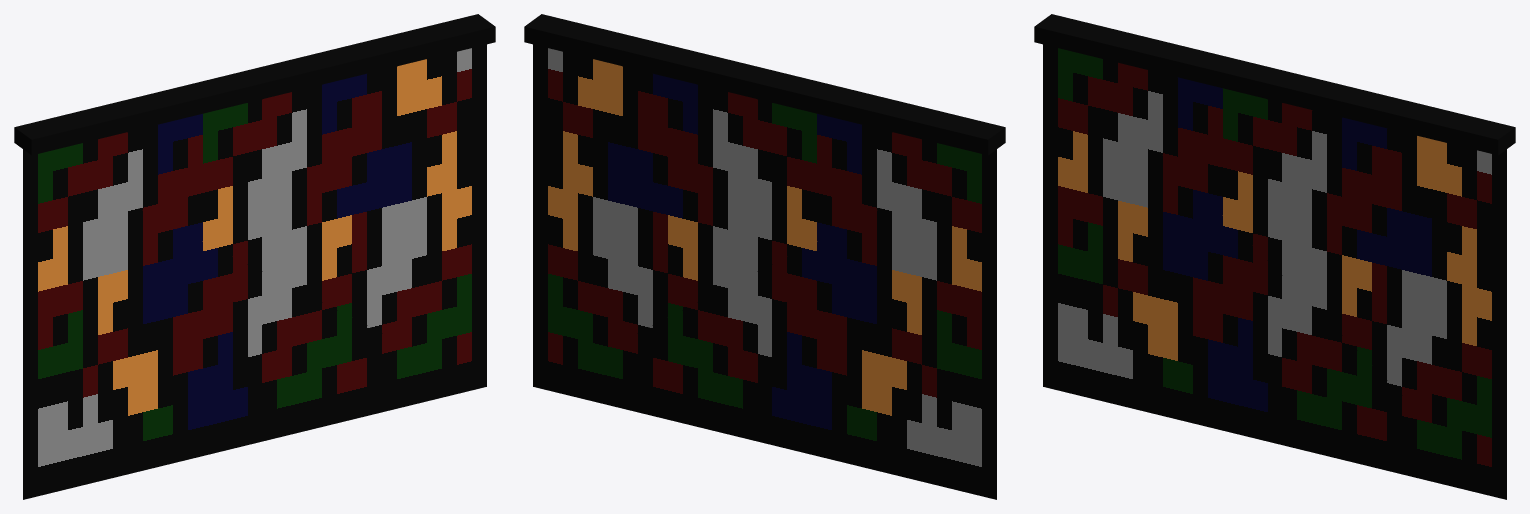
File: window_438x04.obj
3 views of the same model, side by side, from view 1: azimuth 30°, elevation 25°; view 2: azimuth 150°, elevation 25°; view 3: azimuth 330°, elevation 25° (orthographic).
Parts seen in each view (by area): view 1: Plane.001; view 2: Plane.001; view 3: Plane.001.
Boxes of the visible parts, x1=… form: Plane.001: x1=14, y1=14, x2=495, y2=499; Plane.001: x1=524, y1=14, x2=1005, y2=499; Plane.001: x1=1034, y1=14, x2=1515, y2=499.
Size of the model in its own units: 3.88 by 2.92 by 0.25.
